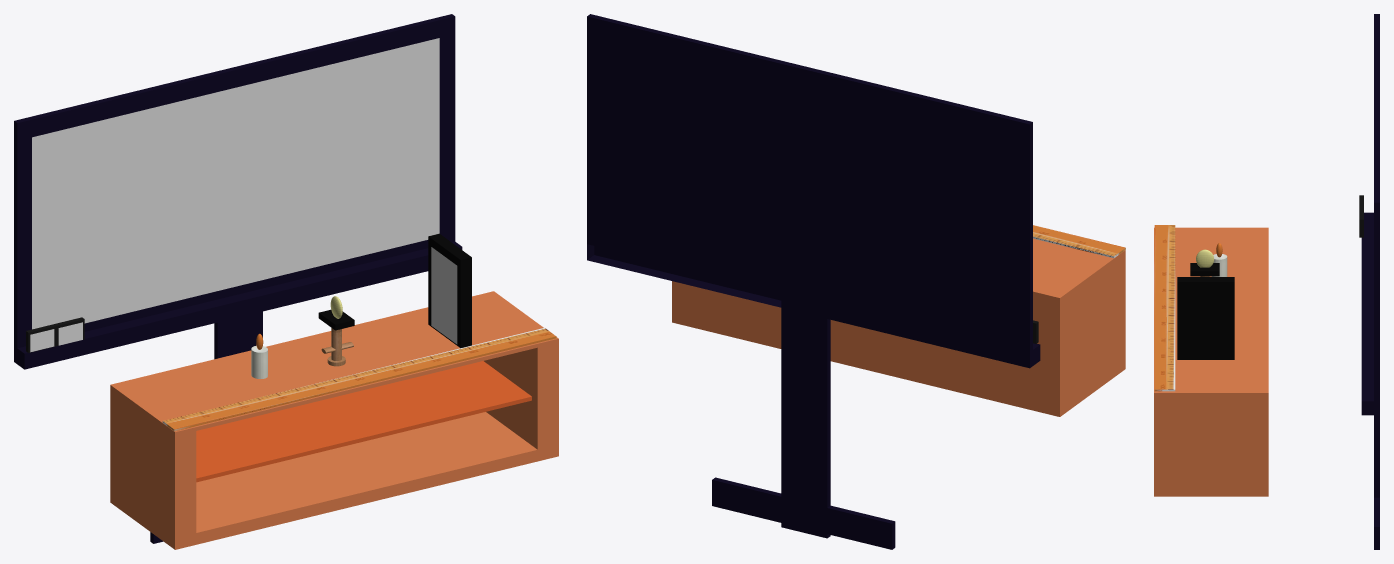
File: convex_simple_table.gltf
The picture shows the model from 3 angles, left to right: view 1: azimuth 30°, elevation 25°; view 2: azimuth 150°, elevation 25°; view 3: azimuth 270°, elevation 25°; orthographic projection. The views are drawn at different scales.
Visible parts, largest first — view 1: tvscreen, Table, tv, rack, scale, board, sheet; view 2: tv, Table, scale; view 3: Table, tv, board, scale, lensHolder.
Part boxes in pixels (x1,y1,x2,y2): tvscreen: [32, 38, 439, 329]; Table: [110, 291, 558, 549]; tv: [14, 14, 462, 543]; rack: [196, 361, 531, 482]; scale: [162, 327, 556, 431]; board: [428, 233, 471, 348]; sheet: [431, 247, 457, 344]; tv: [587, 14, 1040, 549]; Table: [672, 238, 1125, 416]; scale: [1033, 225, 1125, 258]; Table: [1154, 227, 1268, 496]; tv: [1361, 14, 1379, 549]; board: [1177, 277, 1234, 359]; scale: [1154, 225, 1175, 391]; lensHolder: [1190, 263, 1219, 276].
Size of the model in its own units: 15.57 by 15.58 by 7.88.
Materials: 12 (3 with a texture image).
